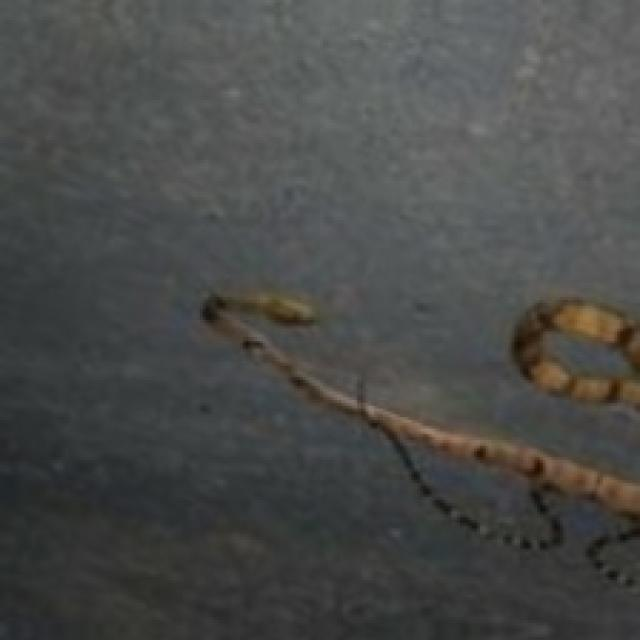dog-toothed cat snake: (203, 294, 637, 589), (511, 300, 637, 406)
